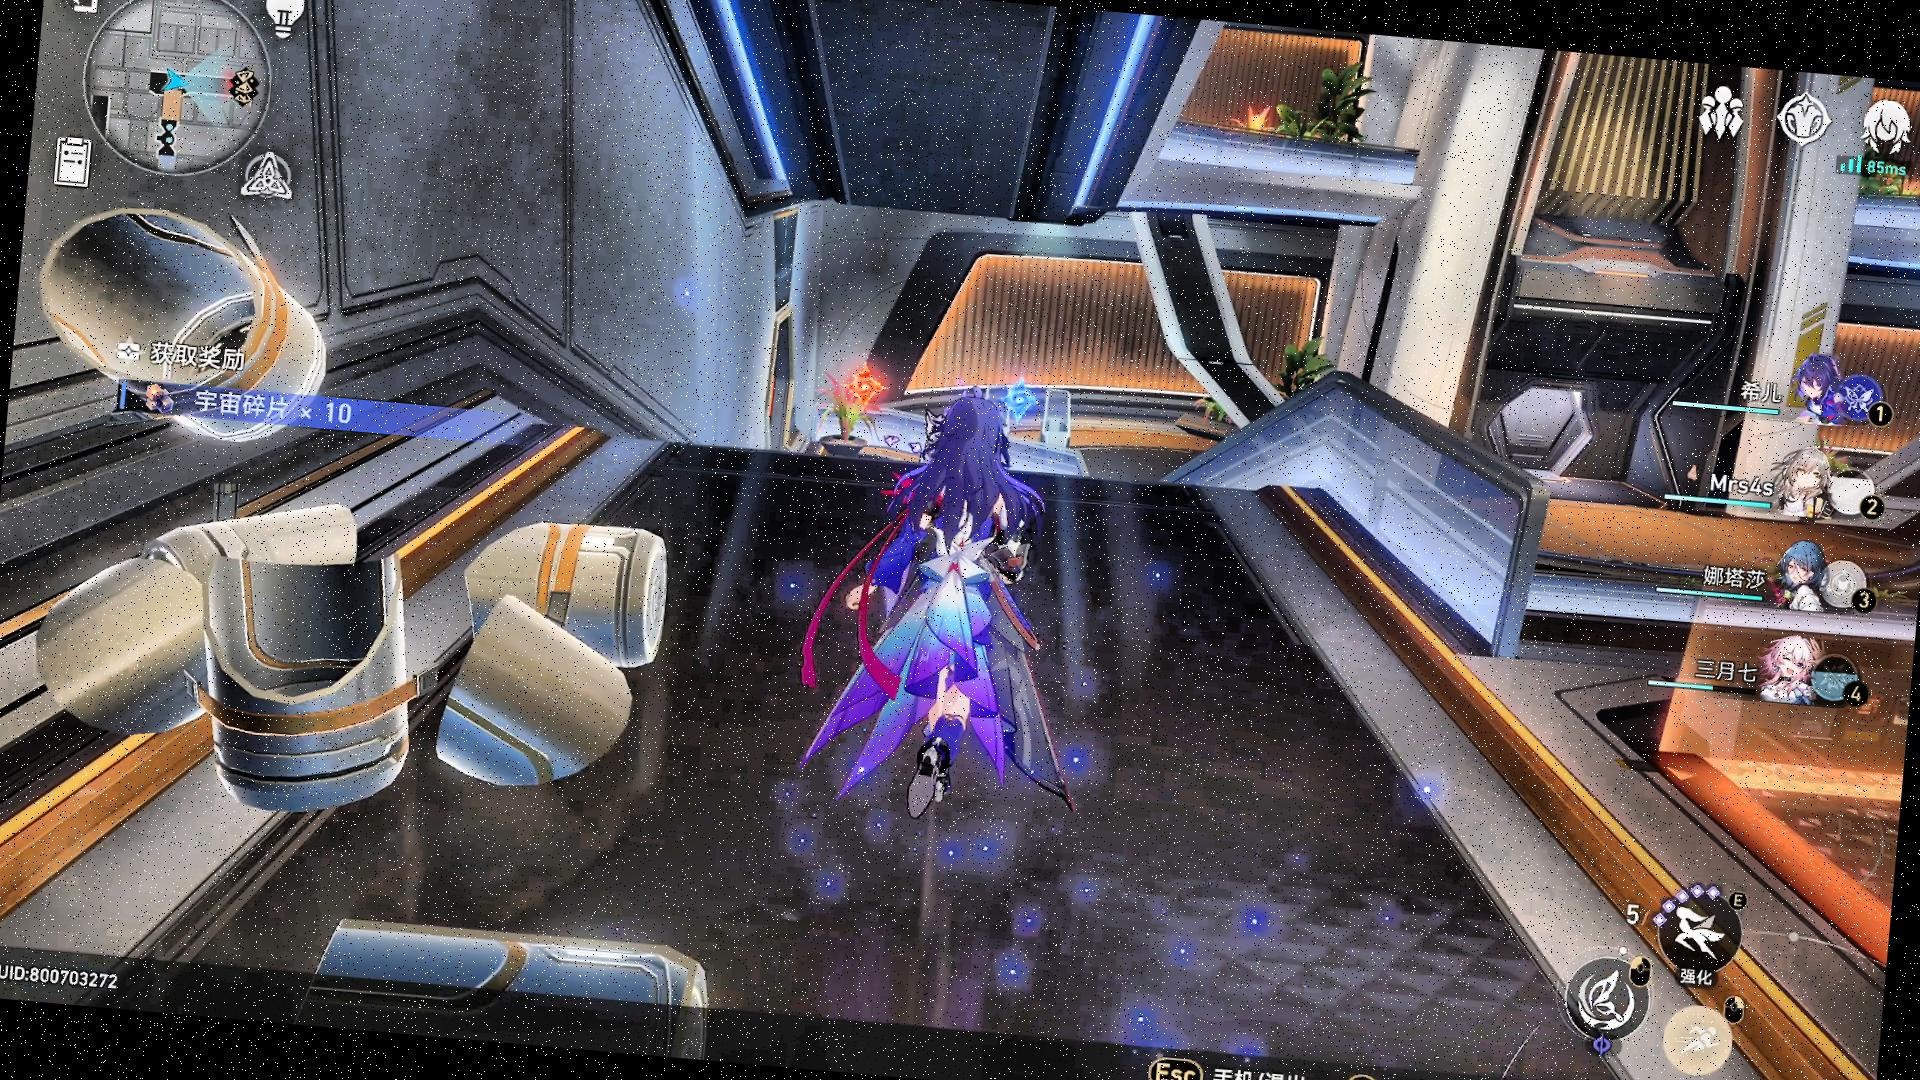BattleDoor: (843, 360, 891, 415)
EventDoor: (996, 376, 1044, 430)
Self: (796, 385, 1112, 841)
